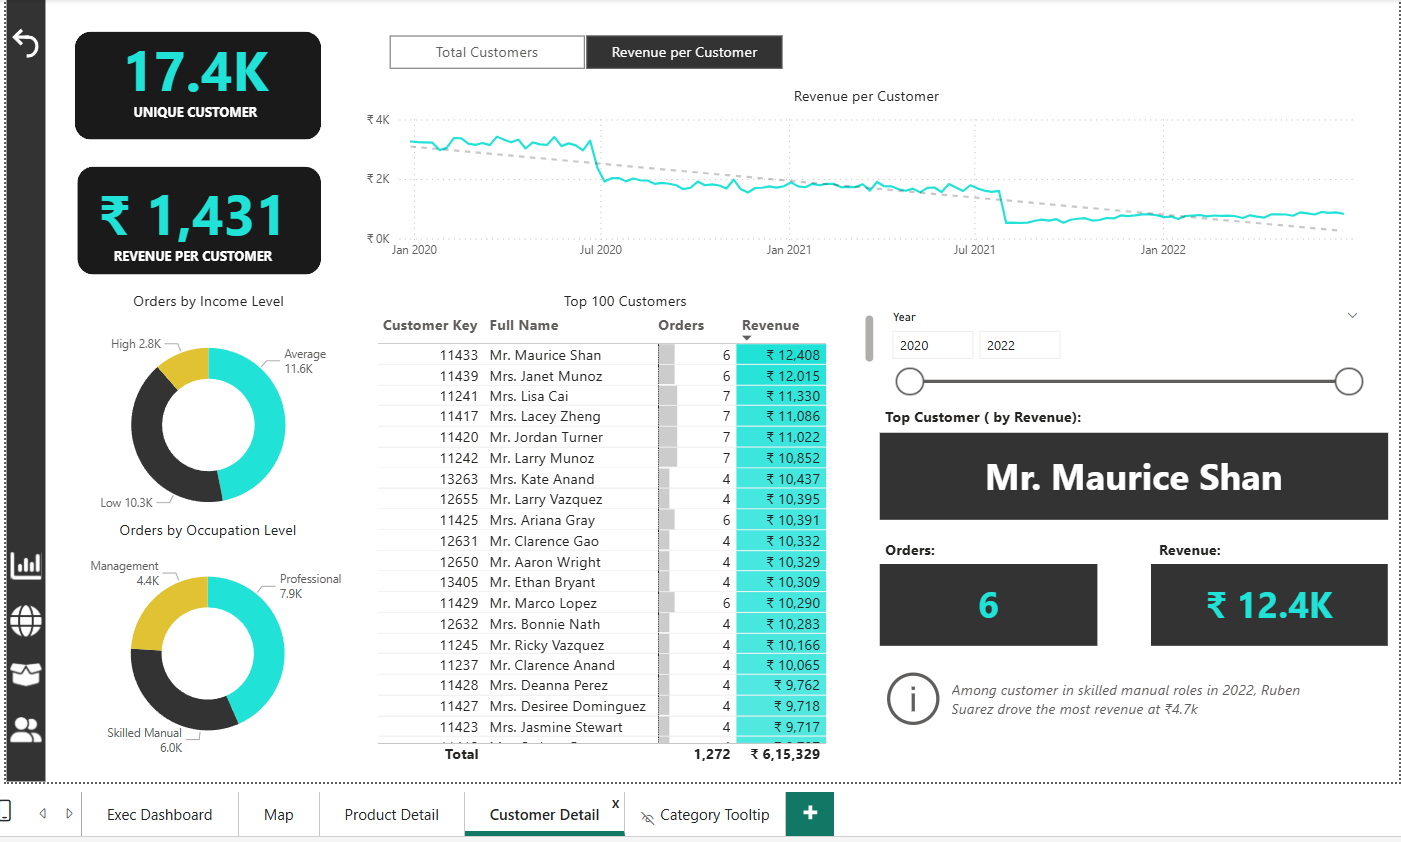

The dashboard page shown, as its layout file describes it:
{"tool":"powerbi","page":{"name":"Customer Detail","canvas":[1280,720],"ordinal":3},"visuals":[{"type":"shape","box":[0,0,36.8,720.2],"z":0},{"type":"actionButton","box":[0,496.5,36.7,50],"z":0,"group":"g4"},{"type":"shape","box":[63.5,30,226.5,99.5],"z":1000},{"type":"card","fields":{"Values":["Measure Table.Total Revenue (Customer Detail)"]},"box":[1052.5,519.8,217.5,75],"z":1000,"group":"g3"},{"type":"actionButton","box":[0,596.6,36.7,50],"z":1000,"group":"g4"},{"type":"textbox","box":[1052.5,410,200,56.2],"z":2000},{"type":"actionButton","box":[0,646.6,36.7,50],"z":2000,"group":"g4"},{"type":"shape","box":[65.9,153.4,224.1,99.5],"z":3000},{"type":"actionButton","box":[0,546.6,36.7,50],"z":3000,"group":"g4"},{"type":"card","fields":{"Values":["Measure Table.Average Revenue per Customer"]},"box":[56.3,140.2,231.3,127],"z":4000},{"type":"card","fields":{"Values":["Measure Table.Total Customers"]},"box":[61.1,3.6,226.5,136.6],"z":5000},{"type":"lineChart","fields":{"Y":["Measure Table.Average Revenue per Customer"],"Category":["Calendar Lookup.Date Hierarchy.Year","Calendar Lookup.Date Hierarchy.Start of Month","Calendar Lookup.Date Hierarchy.Start of Week","Calendar Lookup.Date Hierarchy.Date"]},"box":[326,79.1,928.8,169],"z":6000},{"type":"donutChart","title":"Orders by Income Level","fields":{"Category":["Customer Lookup.Income Level"],"Y":["Measure Table.Total Orders"]},"box":[56.9,267.4,257.4,230.4],"z":7000},{"type":"donutChart","title":"Orders by Occupation Level","fields":{"Y":["Measure Table.Total Orders"],"Category":["Customer Lookup.Occupation"]},"box":[57.5,477.5,256.2,230],"z":8000},{"type":"tableEx","title":"Top 100 Customers","fields":{"Values":["Customer Lookup.CustomerKey","Customer Lookup.Customer Full Name","Measure Table.Total Orders","Measure Table.Total Revenue"]},"box":[335,267.5,467.5,440],"z":9000},{"type":"card","fields":{"Values":["Customer Lookup.Full Name(Customer Detail)"]},"box":[802.5,398.3,467.5,80],"z":9000,"group":"g1"},{"type":"group","id":"g1","title":"Group 3","box":[802.5,369.5,467.5,108.8],"z":10000},{"type":"slicer","fields":{"Values":["Calendar Lookup.Year"]},"box":[802.2,279.9,453,89.5],"z":11000},{"type":"textbox","box":[802.5,369.5,200,56.2],"z":12000,"group":"g1"},{"type":"group","id":"g2","title":"Group 1","box":[802.5,492,200,102.7],"z":12000},{"type":"card","fields":{"Values":["Measure Table.Total Orders (Customer Detail)"]},"box":[802.5,519.7,200,75],"z":12000,"group":"g2"},{"type":"group","id":"g3","title":"Group 2","box":[1052.5,492,217.5,102.8],"z":13000},{"type":"textbox","box":[802.5,492,200,56.2],"z":14000,"group":"g2"},{"type":"actionButton","box":[803,612.3,426.4,61.6],"z":14000},{"type":"textbox","box":[1054.7,492,215,56.3],"z":14001,"group":"g3"},{"type":"actionButton","box":[0,20.8,36.2,40],"z":15000},{"type":"group","id":"g4","title":"Navigation Buttons","box":[0,496.5,36.7,200.1],"z":16000},{"type":"slicer","fields":{"Values":["Customer Metric Selection.Customer Metric Selection"]},"box":[326,26.4,411.1,44.3],"z":16501}]}

Visuals, with their boxes on the page's 1280x720 design canvas (x1, y1, x2, y2). These are canvas units, not pixel positions in the 1401x842 screenshot, which may show the page scaled, cropped or inside an application window:
shape: detection(0, 0, 37, 720)
actionButton: detection(0, 496, 37, 546)
shape: detection(64, 30, 290, 130)
card - Measure Table.Total Revenue (Customer Detail): detection(1052, 520, 1270, 595)
actionButton: detection(0, 597, 37, 647)
textbox: detection(1052, 410, 1252, 466)
actionButton: detection(0, 647, 37, 697)
shape: detection(66, 153, 290, 253)
actionButton: detection(0, 547, 37, 597)
card - Measure Table.Average Revenue per Customer: detection(56, 140, 288, 267)
card - Measure Table.Total Customers: detection(61, 4, 288, 140)
lineChart - Measure Table.Average Revenue per Customer x Calendar Lookup.Date Hierarchy.Year: detection(326, 79, 1255, 248)
"Orders by Income Level" donutChart: detection(57, 267, 314, 498)
"Orders by Occupation Level" donutChart: detection(58, 478, 314, 708)
"Top 100 Customers" tableEx: detection(335, 268, 802, 708)
card - Customer Lookup.Full Name(Customer Detail): detection(802, 398, 1270, 478)
"Group 3" group: detection(802, 370, 1270, 478)
slicer - Calendar Lookup.Year: detection(802, 280, 1255, 369)
textbox: detection(802, 370, 1002, 426)
"Group 1" group: detection(802, 492, 1002, 595)
card - Measure Table.Total Orders (Customer Detail): detection(802, 520, 1002, 595)
"Group 2" group: detection(1052, 492, 1270, 595)
textbox: detection(802, 492, 1002, 548)
actionButton: detection(803, 612, 1229, 674)
textbox: detection(1055, 492, 1270, 548)
actionButton: detection(0, 21, 36, 61)
"Navigation Buttons" group: detection(0, 496, 37, 697)
slicer - Customer Metric Selection.Customer Metric Selection: detection(326, 26, 737, 71)
